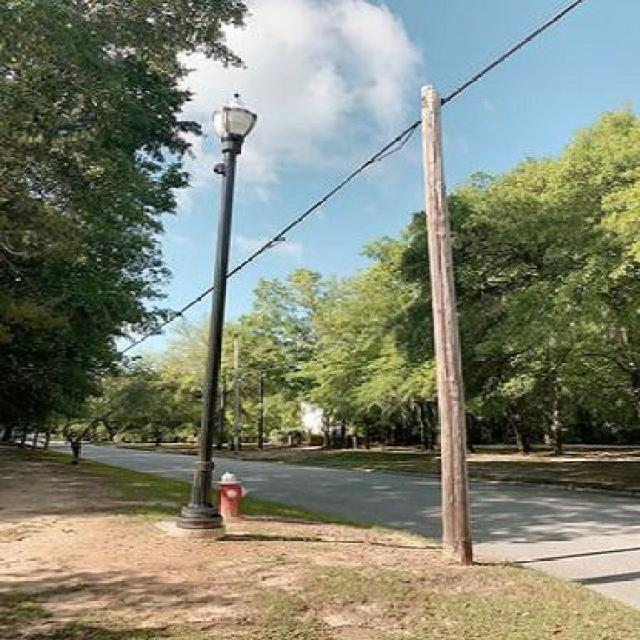pole: (371, 74, 497, 555)
